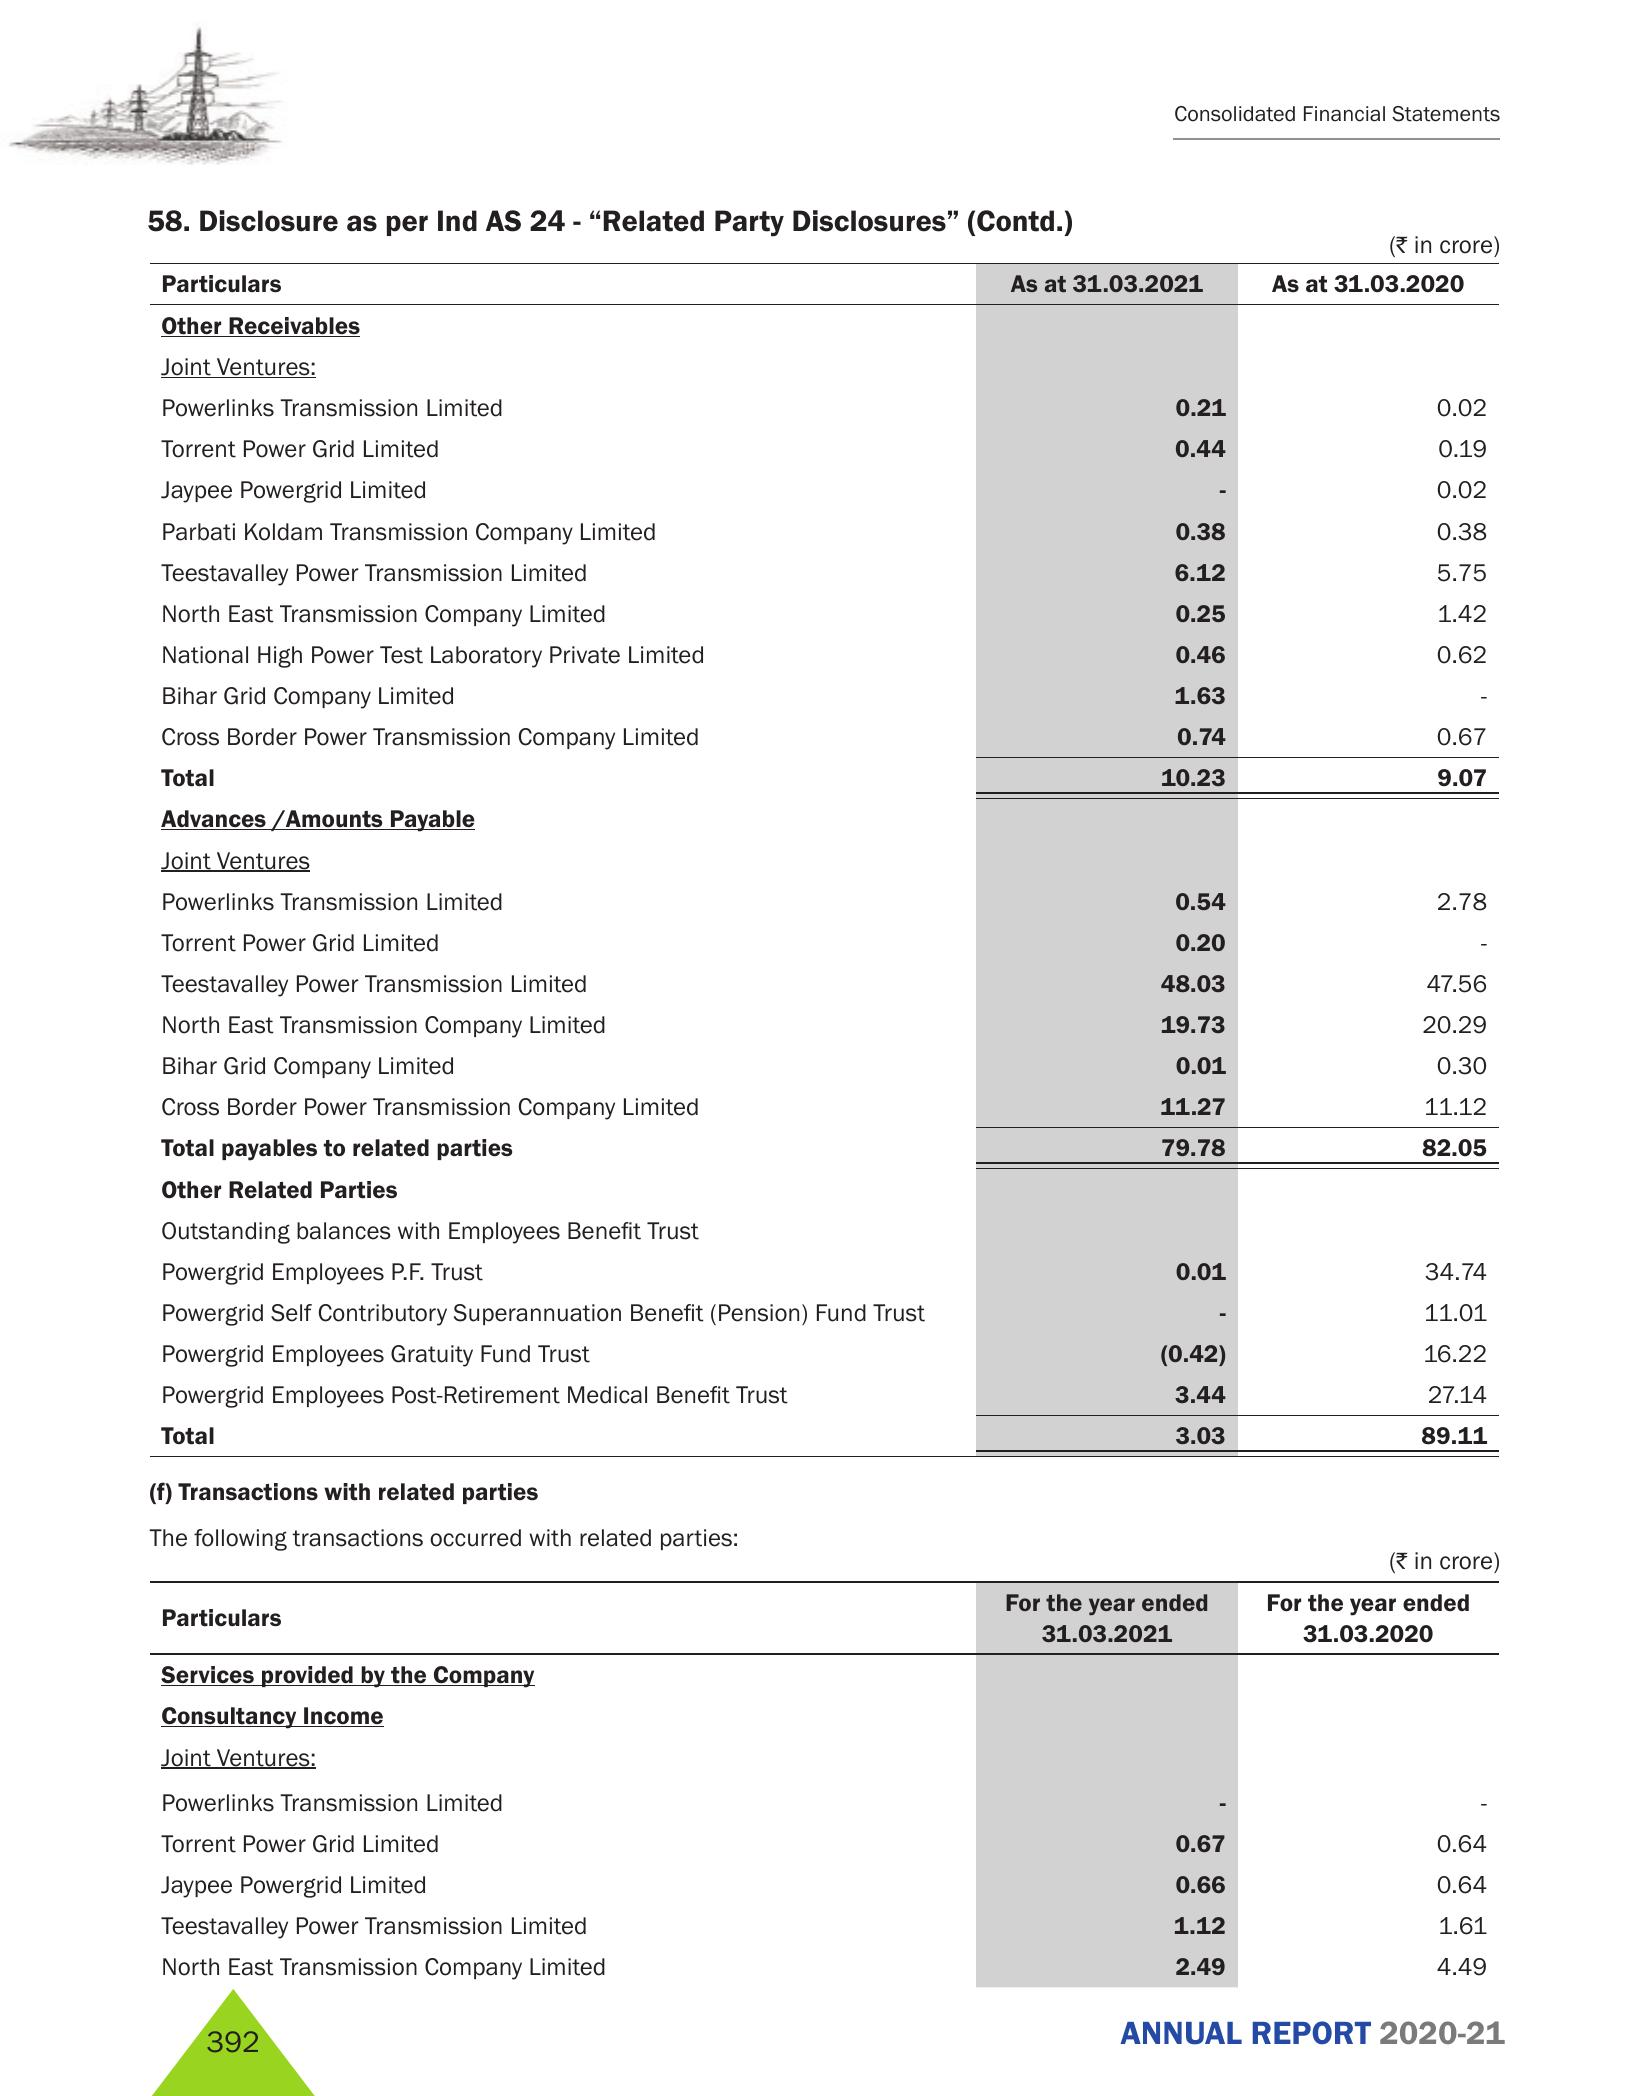Footer: (0, 1994, 1650, 2096)
Header: (0, 0, 1650, 175)
Table: (94, 257, 1536, 1450), (129, 1577, 1521, 1994)
